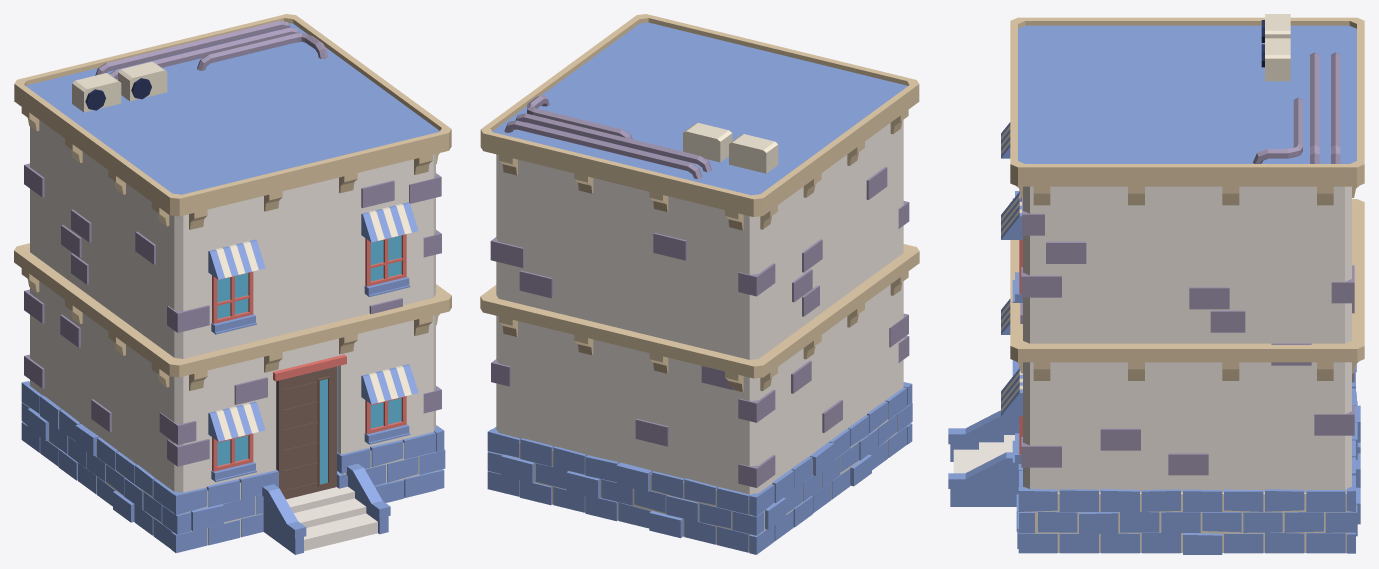
File: 2Story_Mat.obj
3 views of the same model, side by side, from view 1: azimuth 30°, elevation 25°; view 2: azimuth 150°, elevation 25°; view 3: azimuth 270°, elevation 25° (orthographic). The views are drawn at different scales.
Parts seen in each view (by area): view 1: 2Story_Mat_Cube.038; view 2: 2Story_Mat_Cube.038; view 3: 2Story_Mat_Cube.038.
Boxes of the visible parts, left/top/right/bottom form: 2Story_Mat_Cube.038: left=14, top=14, right=451, bottom=554; 2Story_Mat_Cube.038: left=480, top=14, right=919, bottom=554; 2Story_Mat_Cube.038: left=948, top=14, right=1364, bottom=554.
Bounding box in the file's own units: 2.16 × 2.75 × 2.53.
